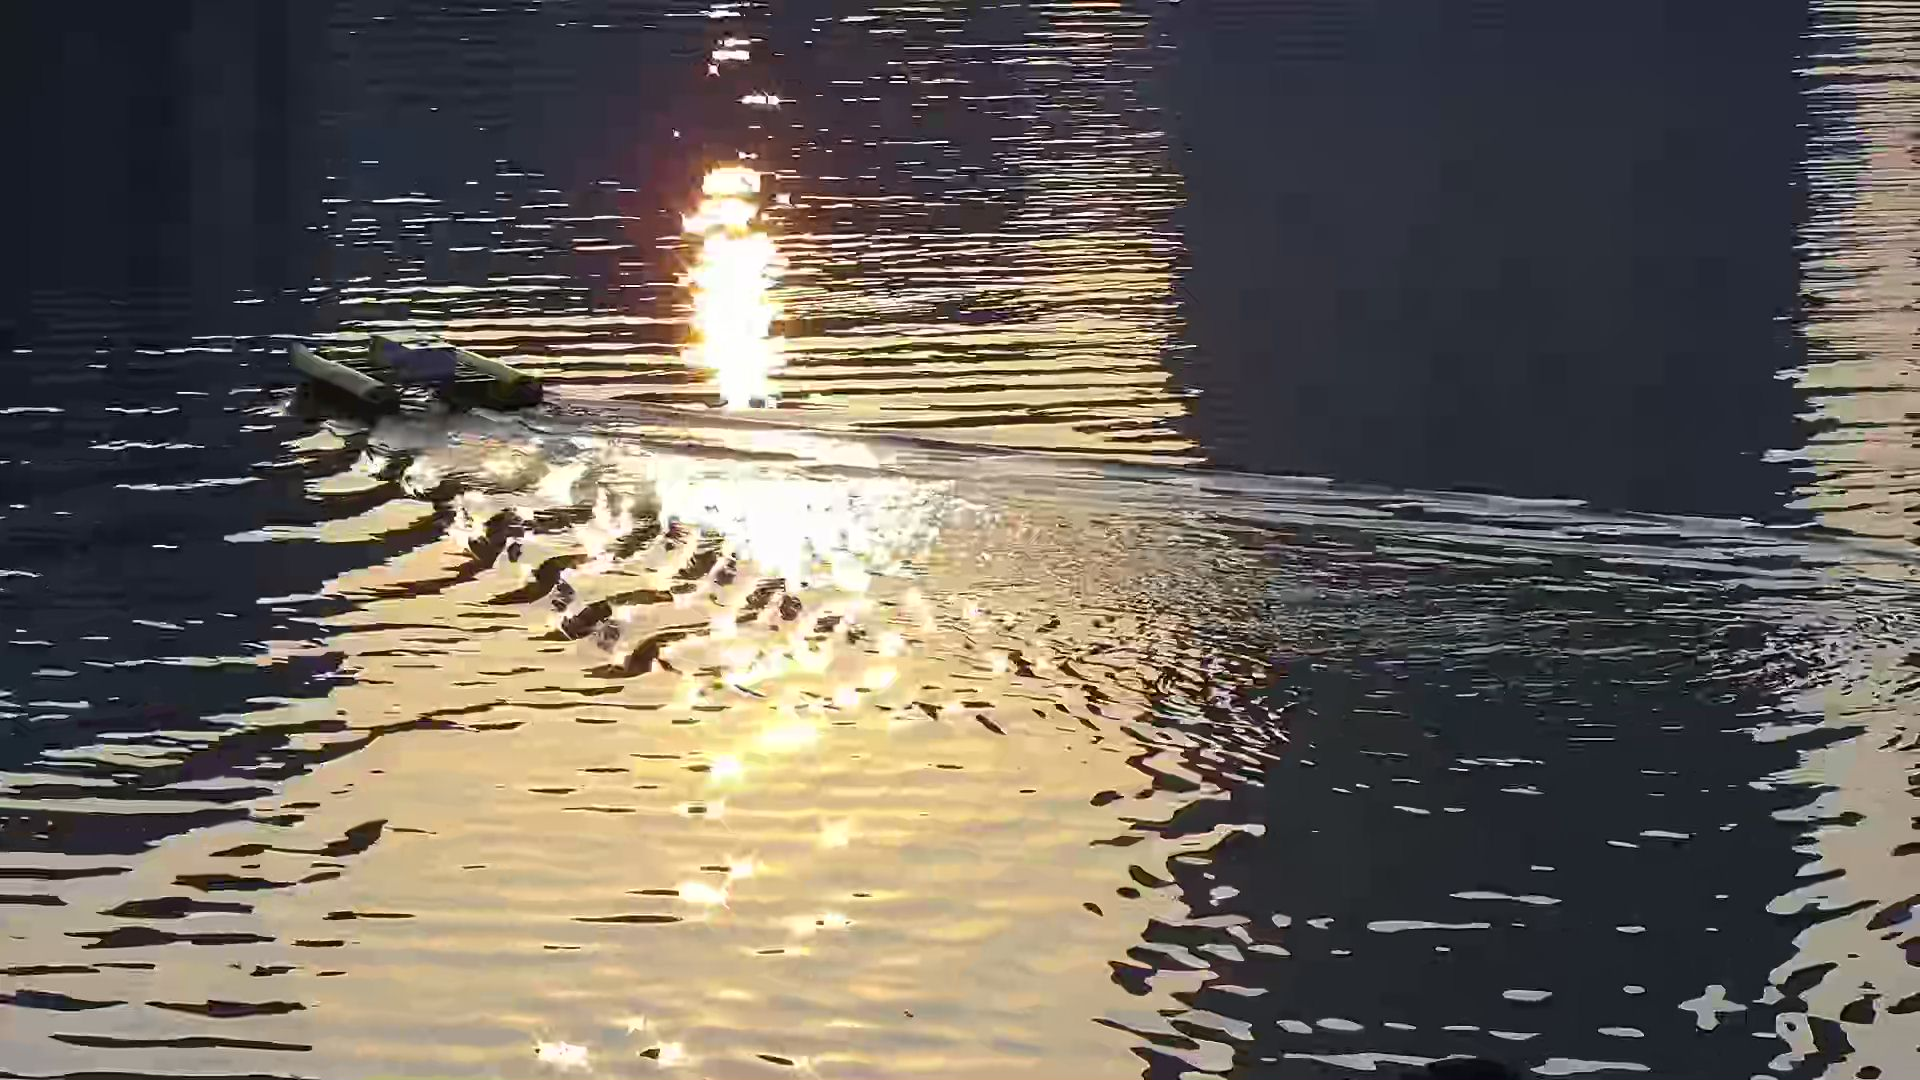boat: (291, 316, 549, 425)
